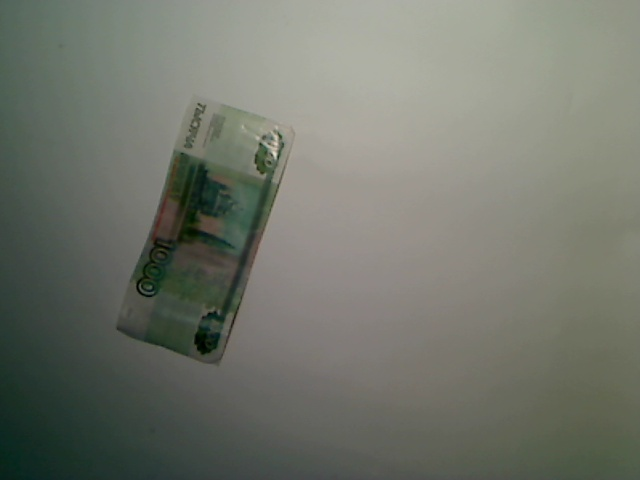banknotes: (113, 91, 299, 370)
